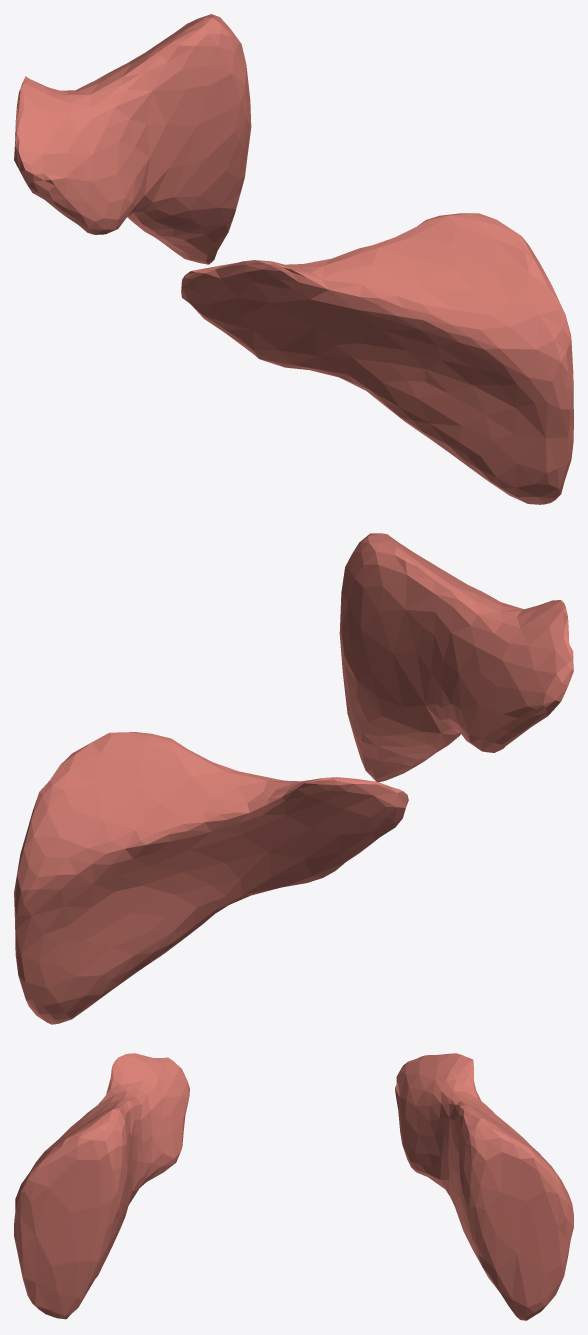
3 views of the same model, one above another, from view 1: azimuth 30°, elevation 25°; view 2: azimuth 150°, elevation 25°; view 3: azimuth 270°, elevation 25° (orthographic). The views are drawn at different scales.
Visible parts, largest first — view 1: 226.obj; view 2: 226.obj; view 3: 226.obj.
Boxes of the visible parts, left/top/right/bottom form: 226.obj: left=14, top=14, right=573, bottom=504; 226.obj: left=14, top=533, right=573, bottom=1024; 226.obj: left=14, top=1053, right=573, bottom=1320.
Bounding box in the file's own units: 1241 × 1146 × 3002.
